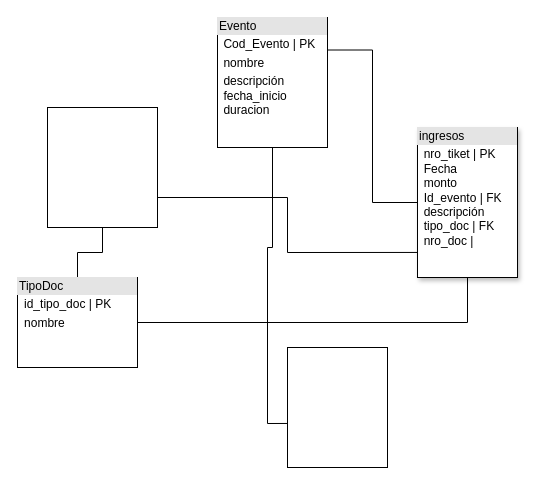
Some shapes in this 541 by 485 pixel diagram are drawn without their labels. The shapes that lost their labels are listed below. From the top down, each one's centre as x and y in pixels, then its label:
At pixel 102 167: "Persona nombre apellido telefono tipo_doc (fk) | PK nro_doc |".
At pixel 337 407: "egresos id_egresos | PK Fecha monto Id_evento | FK descripción".
